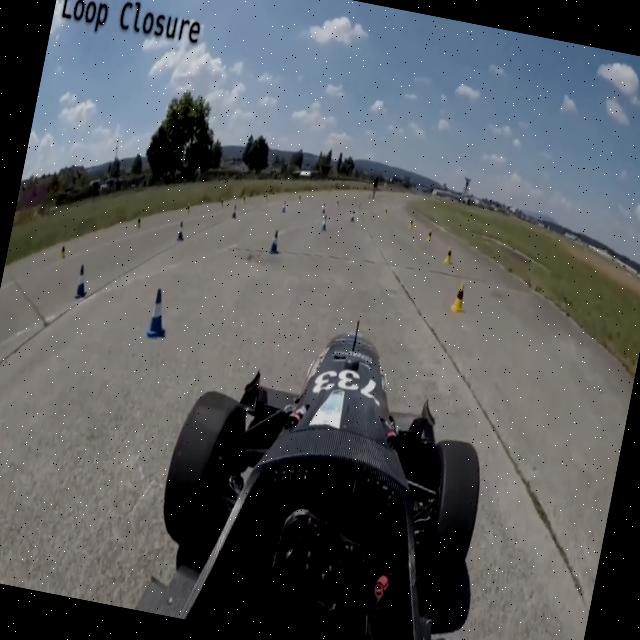blue_cone: (144, 286, 174, 342), (74, 264, 92, 302), (269, 228, 283, 255), (176, 220, 188, 243)
yellow_cone: (450, 278, 471, 316), (444, 244, 456, 266)
